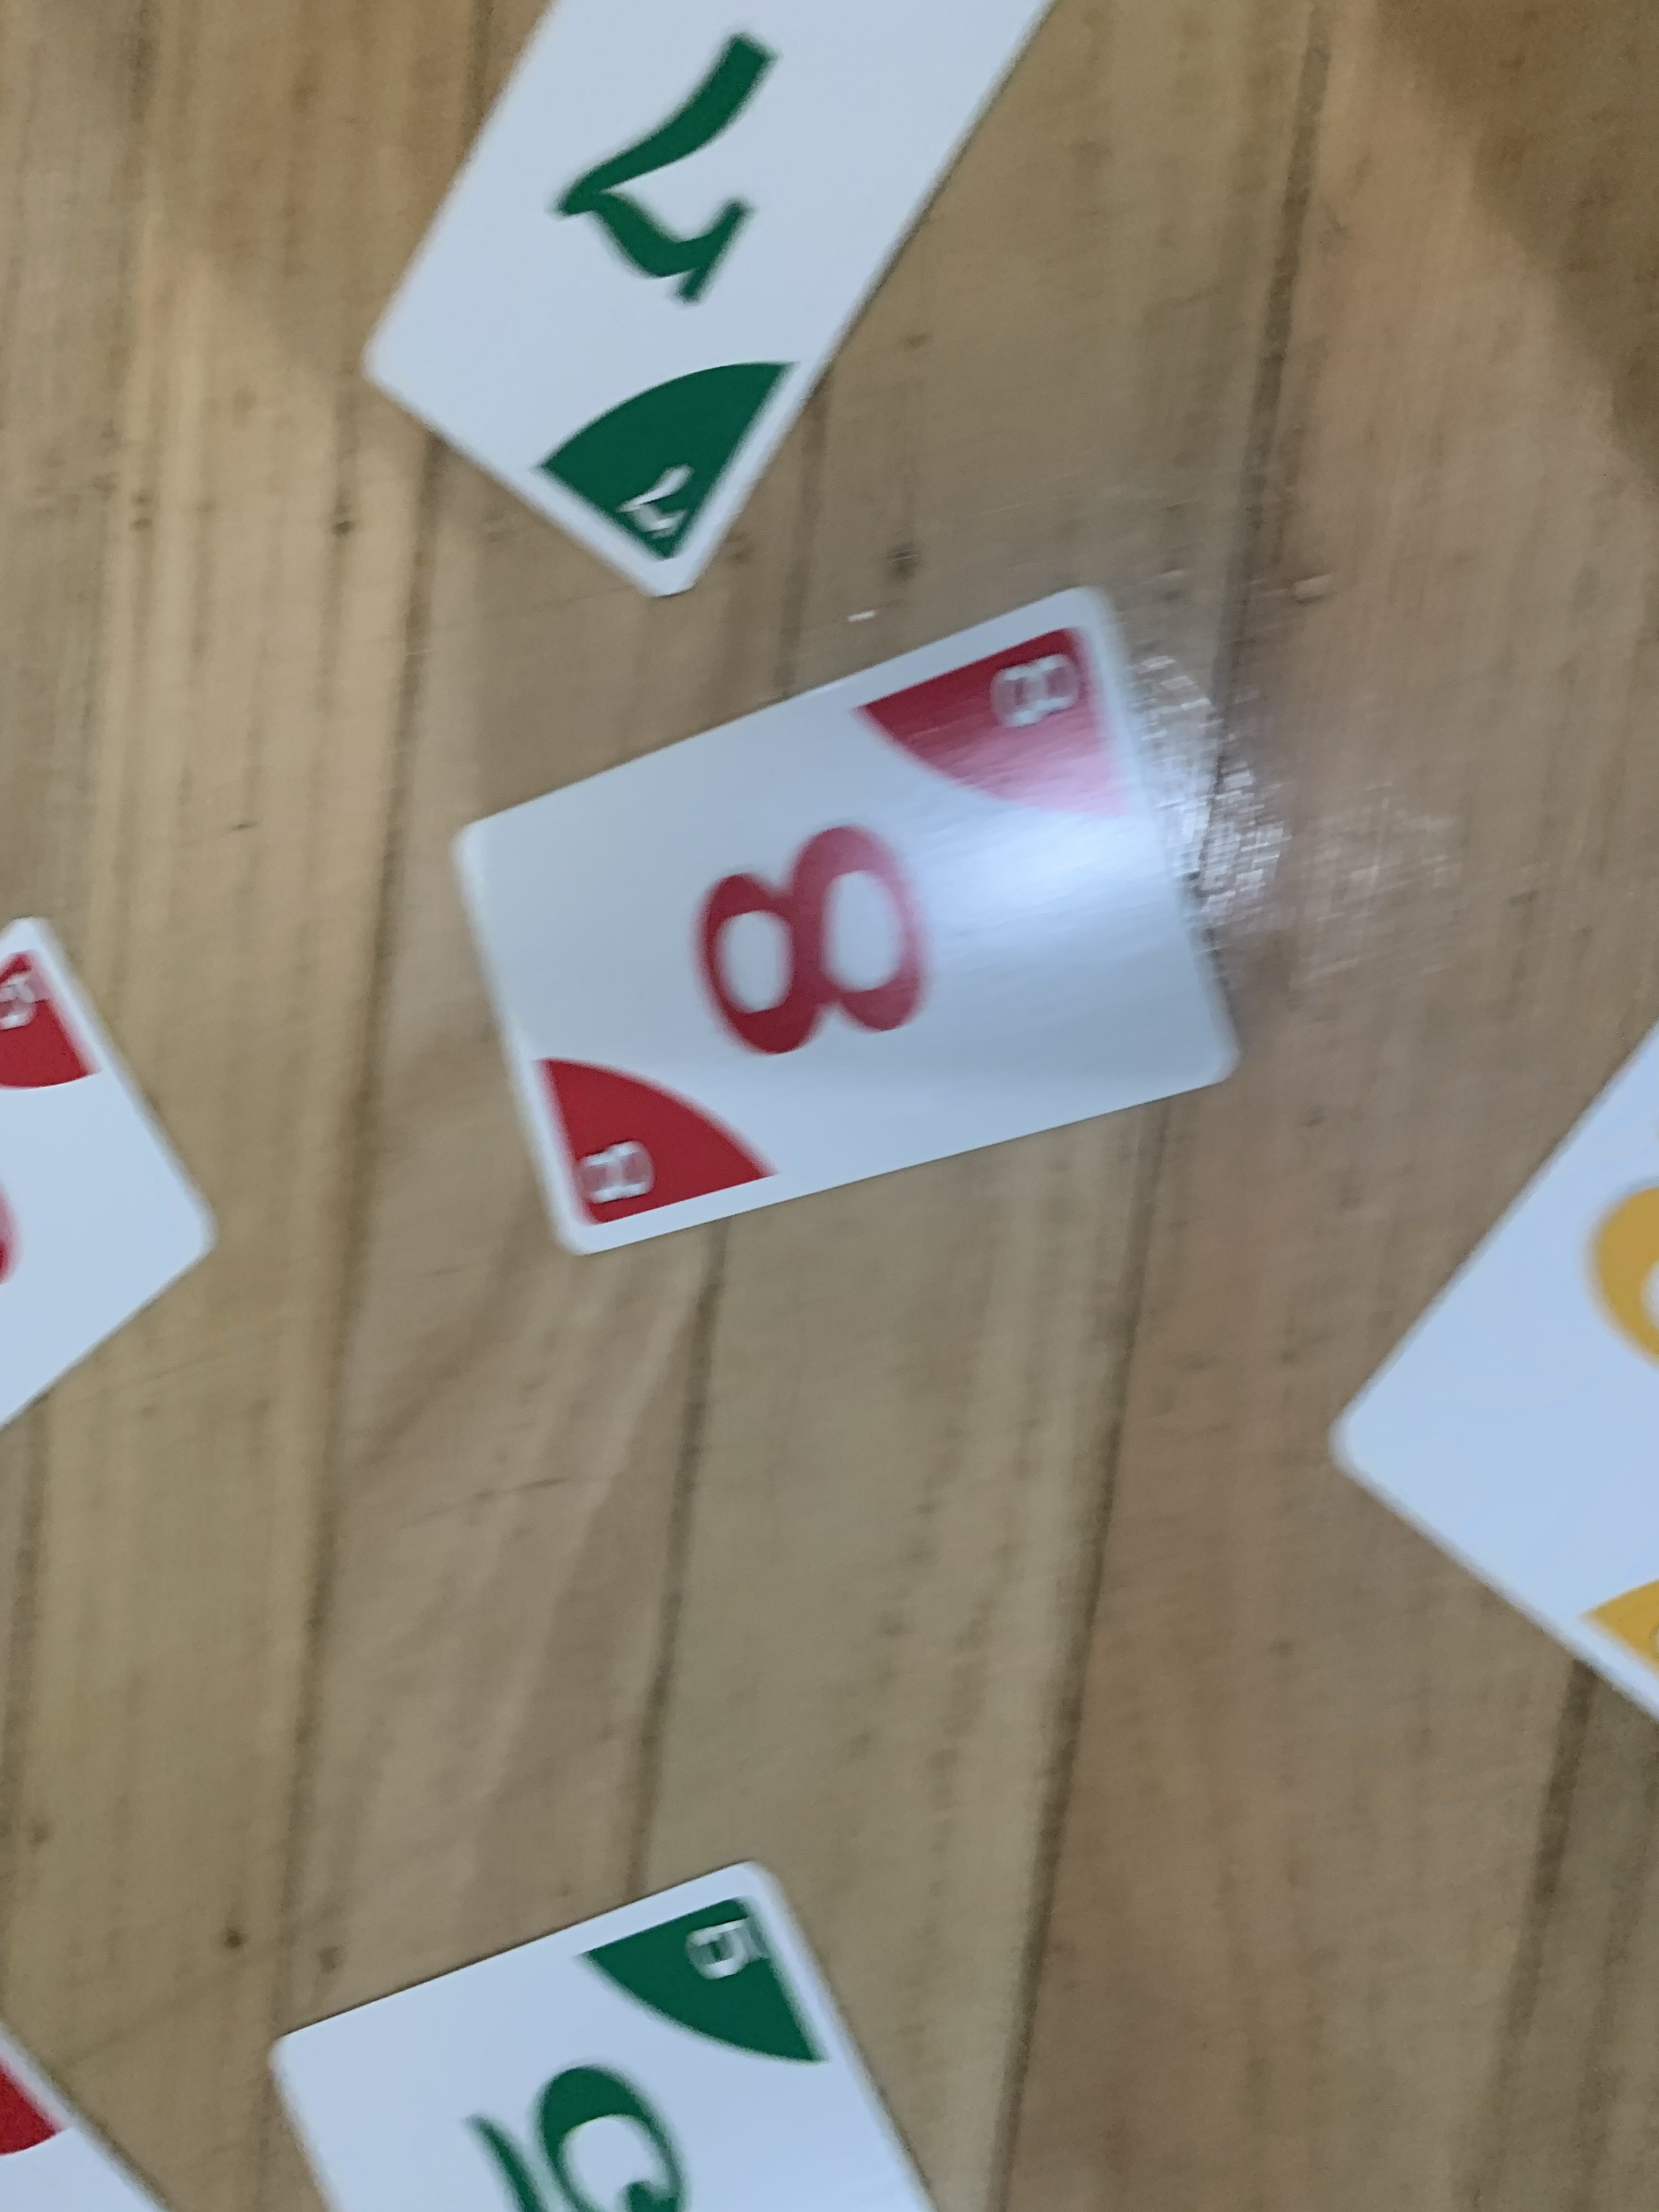eight: (423, 571, 1246, 1268)
